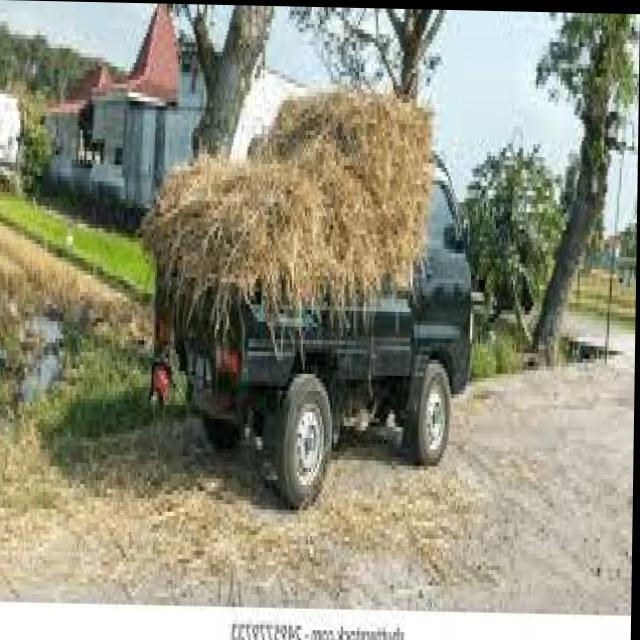uncovered: (151, 88, 473, 510)
